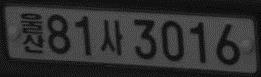0: (159, 19, 185, 62)
1: (73, 14, 94, 57), (189, 20, 208, 64)
3: (131, 17, 158, 60)
6: (214, 22, 241, 66)
8: (45, 13, 71, 55)
사: (99, 18, 124, 56)
울산_V: (19, 11, 46, 55)
